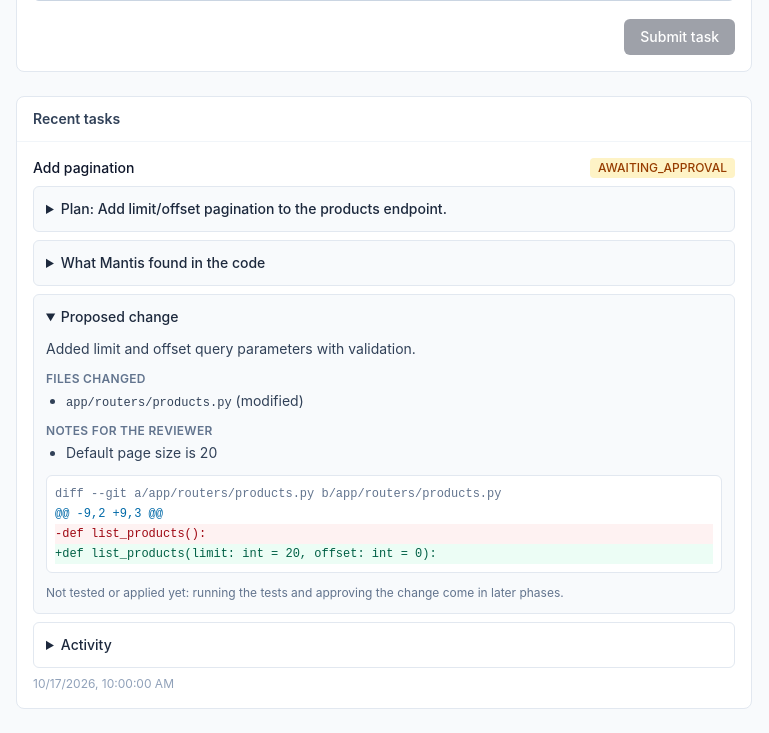
Scenario: tasks › loads the activity log when it is opened
This screenshot has width=769, height=733.
(page scrolled)
Check: the text "Added limit and offset query parameters with validation." is shown, box [46, 340, 416, 357]
Click the heading "Activity": (86, 644) [61, 636, 112, 653]
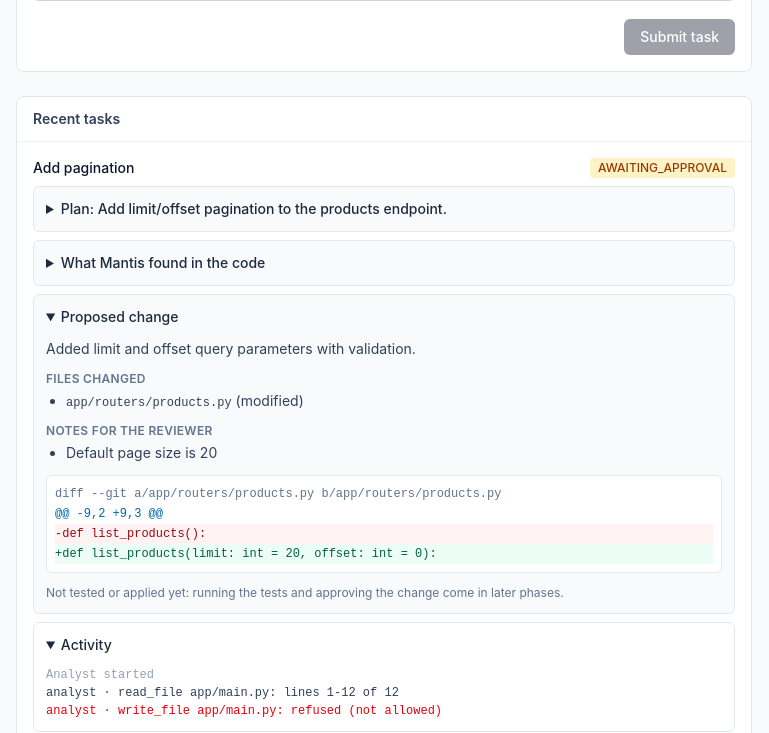
Check: the list item "Analyst started" is shown, box [46, 668, 154, 682]
Check: the list item "analyst · read_file app/main.py: lines 1-12 of 12" is shown, box [46, 686, 399, 700]
